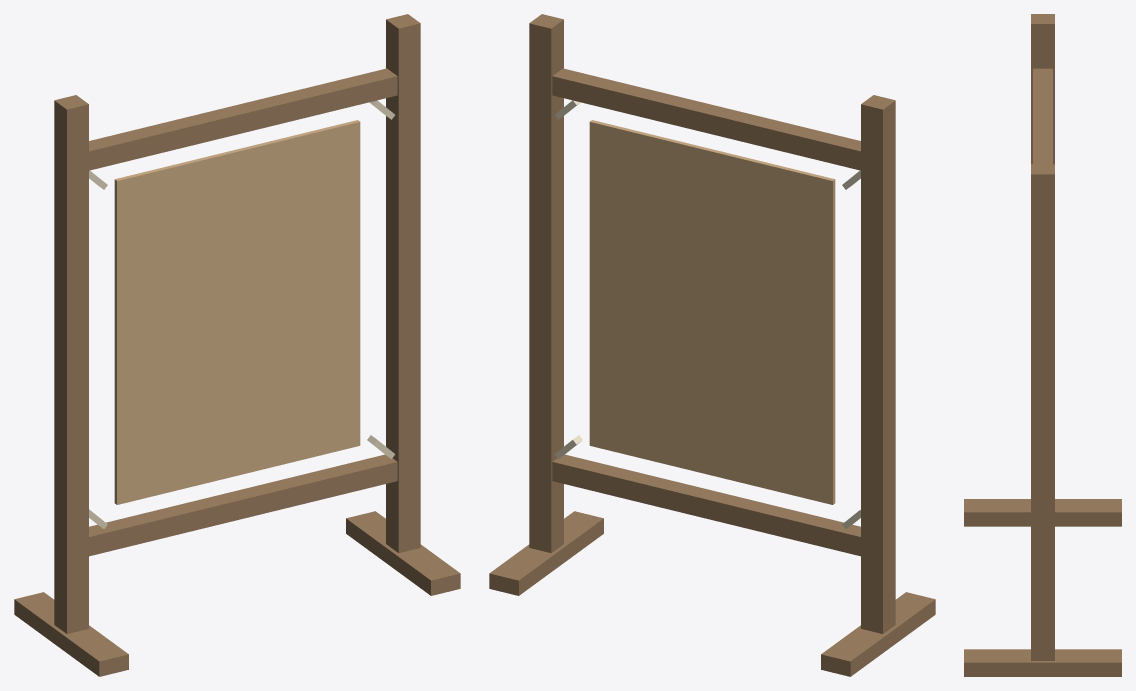
Rendered from prop-stretching-frame.fbx.
The picture shows the model from 3 angles, left to right: view 1: azimuth 30°, elevation 25°; view 2: azimuth 150°, elevation 25°; view 3: azimuth 270°, elevation 25°; orthographic projection. The views are drawn at different scales.
Parts seen in each view (by area): view 1: prop-stretching-frame; view 2: prop-stretching-frame; view 3: prop-stretching-frame.
Part boxes in pixels (x1,y1,x2,y2): prop-stretching-frame: (14, 14, 460, 676); prop-stretching-frame: (489, 14, 935, 676); prop-stretching-frame: (964, 14, 1121, 676).
Size of the model in its own units: 98 by 140 by 40.
